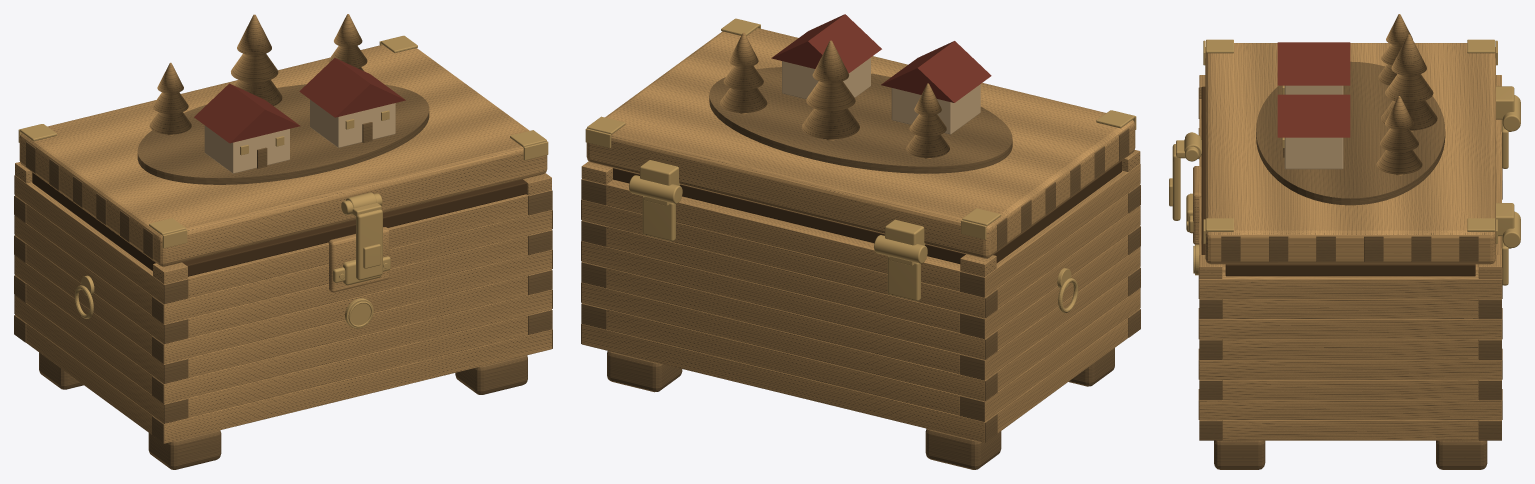
The model's file is germany.glb.
The picture shows the model from 3 angles, left to right: view 1: azimuth 30°, elevation 25°; view 2: azimuth 150°, elevation 25°; view 3: azimuth 270°, elevation 25°; orthographic projection. The views are drawn at different scales.
Visible parts, largest first — view 1: Lid / polished slab, Village / oval base, Woodcraft / front course 0, Woodcraft / front course 2, Woodcraft / front course 4, Woodcraft / front course 1, Woodcraft / front course 3, Woodcraft / front course 6, Woodcraft / front course 5, Woodcraft / front course 7, Mineral seam / long, Woodcraft / side course 7 (+22 smaller); view 2: Lid / polished slab, Village / oval base, Woodcraft / rear course 2, Woodcraft / rear course 4, Woodcraft / rear course 0, Woodcraft / rear course 7, Woodcraft / rear course 1, Woodcraft / rear course 5, Woodcraft / rear course 3, Woodcraft / rear course 6, Woodcraft / side course 7, Village / roof 0 (+25 smaller); view 3: Lid / polished slab, Village / oval base, Woodcraft / side course 7.001, Woodcraft / side course 1.001, Woodcraft / side course 5.001, Woodcraft / side course 3.001, Woodcraft / side course 0.001, Woodcraft / side course 4.001, Woodcraft / side course 6.001, Woodcraft / side course 2.001, Mineral seam / side.001, Village / roof 0 (+36 smaller).
Part boxes in pixels (x1,y1,x2,y2): Lid / polished slab: [19, 44, 547, 266]; Village / oval base: [137, 84, 429, 184]; Woodcraft / front course 0: [153, 329, 551, 443]; Woodcraft / front course 2: [153, 289, 551, 403]; Woodcraft / front course 4: [153, 249, 551, 363]; Woodcraft / front course 1: [188, 315, 527, 417]; Woodcraft / front course 3: [188, 275, 527, 377]; Woodcraft / front course 6: [153, 210, 551, 324]; Woodcraft / front course 5: [188, 235, 527, 338]; Woodcraft / front course 7: [188, 194, 527, 298]; Mineral seam / long: [182, 179, 526, 276]; Woodcraft / side course 7: [15, 175, 187, 303]; Lid / polished slab: [586, 28, 1135, 258]; Village / oval base: [709, 67, 1012, 173]; Woodcraft / rear course 2: [581, 282, 996, 401]; Woodcraft / rear course 4: [581, 241, 996, 359]; Woodcraft / rear course 0: [581, 324, 996, 442]; Woodcraft / rear course 7: [606, 180, 960, 291]; Woodcraft / rear course 1: [606, 309, 960, 415]; Woodcraft / rear course 5: [606, 226, 959, 332]; Woodcraft / rear course 3: [606, 268, 960, 374]; Woodcraft / rear course 6: [581, 199, 996, 318]; Woodcraft / side course 7: [960, 164, 1140, 297]; Village / roof 0: [881, 41, 991, 102]; Lid / polished slab: [1205, 43, 1495, 264]; Village / oval base: [1256, 61, 1445, 205]; Woodcraft / side course 7.001: [1199, 271, 1501, 299]; Woodcraft / side course 1.001: [1199, 400, 1501, 420]; Woodcraft / side course 5.001: [1199, 319, 1501, 339]; Woodcraft / side course 3.001: [1199, 360, 1501, 379]; Woodcraft / side course 0.001: [1222, 420, 1478, 440]; Woodcraft / side course 4.001: [1222, 339, 1478, 359]; Woodcraft / side course 6.001: [1222, 299, 1478, 319]; Woodcraft / side course 2.001: [1222, 380, 1478, 400]; Mineral seam / side.001: [1225, 264, 1475, 276]; Village / roof 0: [1277, 42, 1350, 85].
Bounding box in the file's own units: 3.79 × 3.15 × 2.88.
6 materials, 2 textured.
